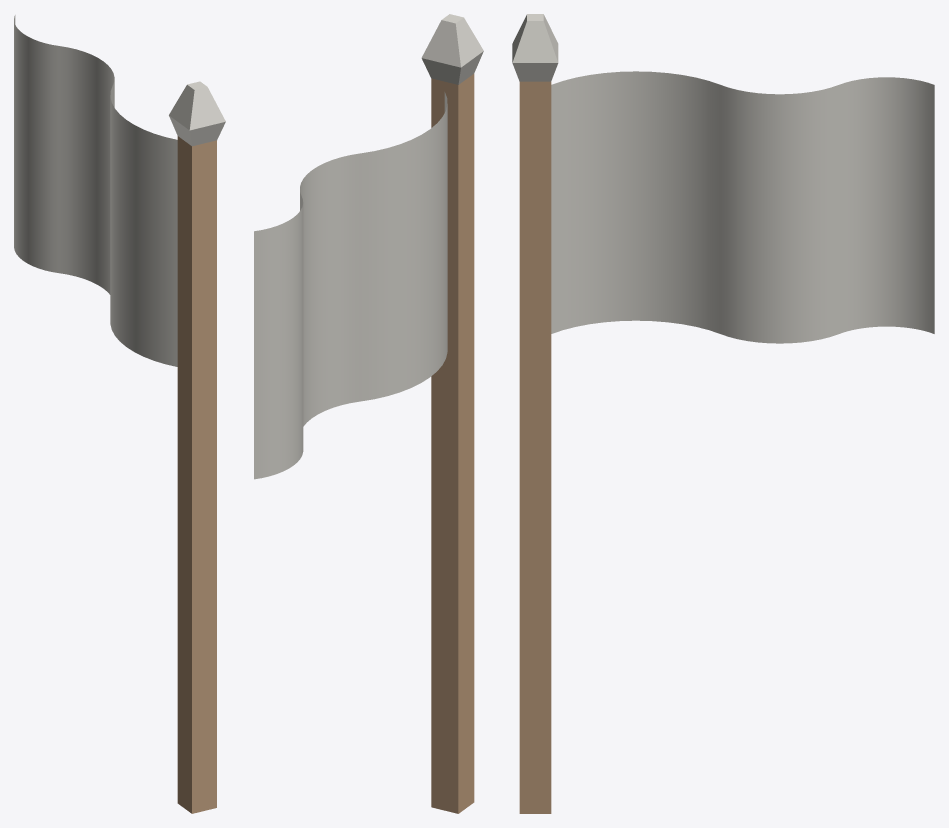
The model's file is flagWhiteWide.obj.
3 renders of one model, left to right at view 1: azimuth 30°, elevation 25°; view 2: azimuth 150°, elevation 25°; view 3: azimuth 270°, elevation 25°, orthographic. The views are drawn at different scales.
Parts seen in each view (by area): view 1: Group 288, flagWhiteWide; view 2: Group 288, flagWhiteWide; view 3: Group 288, flagWhiteWide.
Part boxes in pixels (left/top/right/bottom): Group 288: left=14, top=15, right=177, bottom=366; flagWhiteWide: left=169, top=81, right=225, bottom=813; Group 288: left=254, top=92, right=447, bottom=479; flagWhiteWide: left=421, top=14, right=483, bottom=813; Group 288: left=551, top=71, right=934, bottom=343; flagWhiteWide: left=512, top=14, right=558, bottom=813.
Bounding box in the file's own units: 0.4988 × 7.92 × 3.84.
